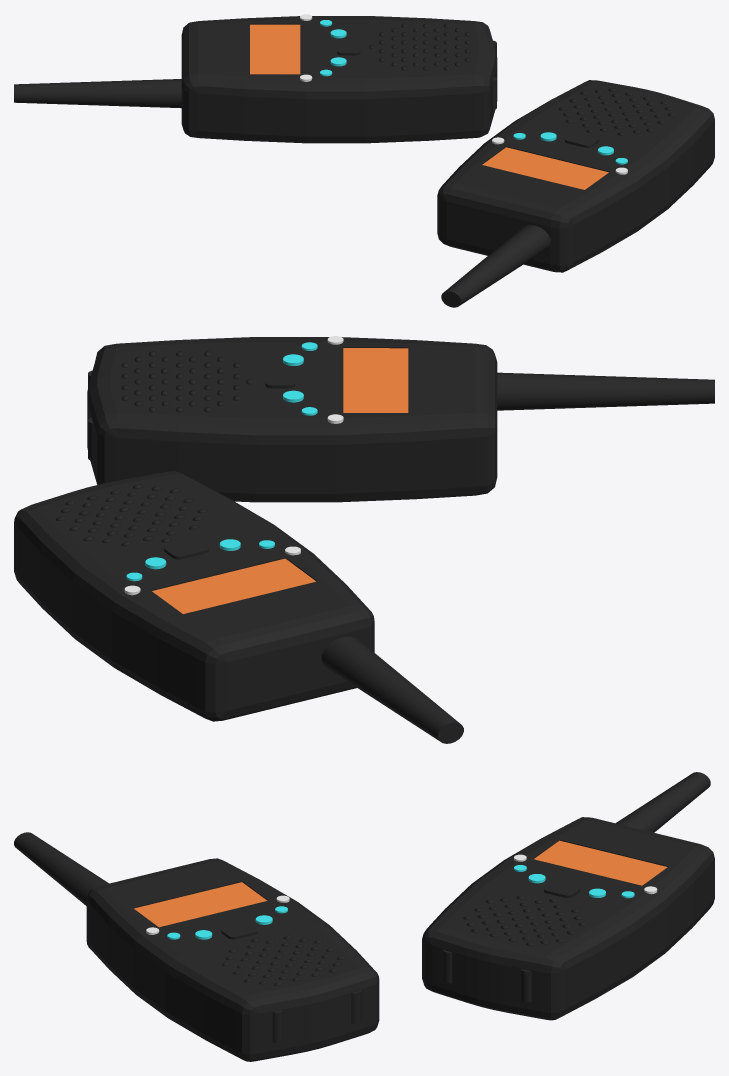
The model's file is 3ebf701e-e593-4cb4-86b7-6ac1e9ee49a2.glb.
3 views of the same model, one above another, from view 1: azimuth 30°, elevation 25°; view 2: azimuth 150°, elevation 25°; view 3: azimuth 270°, elevation 25° (orthographic). The views are drawn at different scales.
Parts seen in each view (by area): view 1: Box005, Box008, Cylinder020, Cylinder033, Object003, Object004; view 2: Box008, Box005, Cylinder033, Cylinder020, Object004, Object003, Box006; view 3: Box008, Box005, Object003, Object004, Cylinder033, Cylinder020.
Boxes of the visible parts, x1,y1,x2,y2 form: Box005: (181, 16, 497, 143); Box008: (437, 80, 714, 272); Cylinder020: (14, 79, 181, 108); Cylinder033: (441, 225, 550, 307); Object003: (250, 24, 300, 74); Object004: (482, 147, 608, 189); Box008: (87, 337, 497, 502); Box005: (14, 471, 374, 721); Cylinder033: (497, 372, 714, 410); Cylinder020: (321, 636, 463, 743); Object004: (343, 348, 408, 412); Object003: (152, 558, 315, 613); Box006: (164, 539, 208, 559); Box008: (86, 858, 379, 1061); Box005: (422, 817, 714, 1020); Object003: (534, 840, 667, 885); Object004: (134, 882, 267, 927); Cylinder033: (14, 832, 108, 905); Cylinder020: (616, 772, 710, 832).
Bounding box in the file's own units: 85630 × 10586 × 100464.
